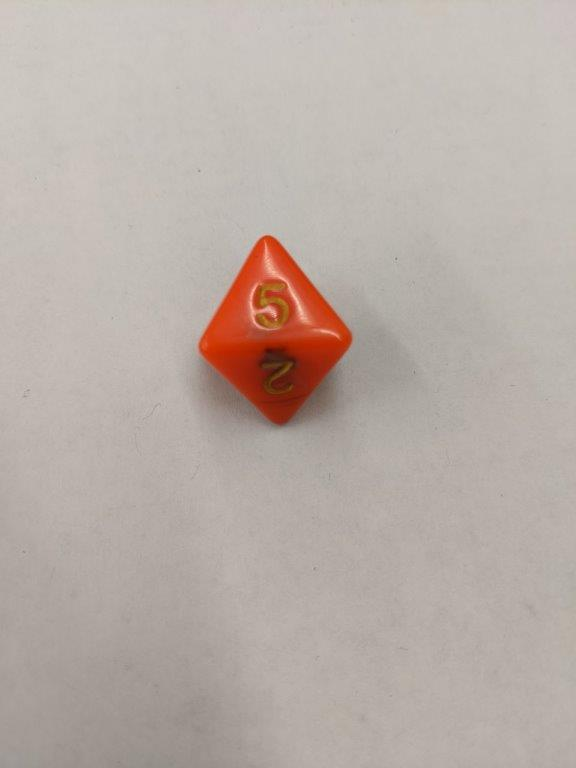d8-5: (195, 233, 353, 431)
